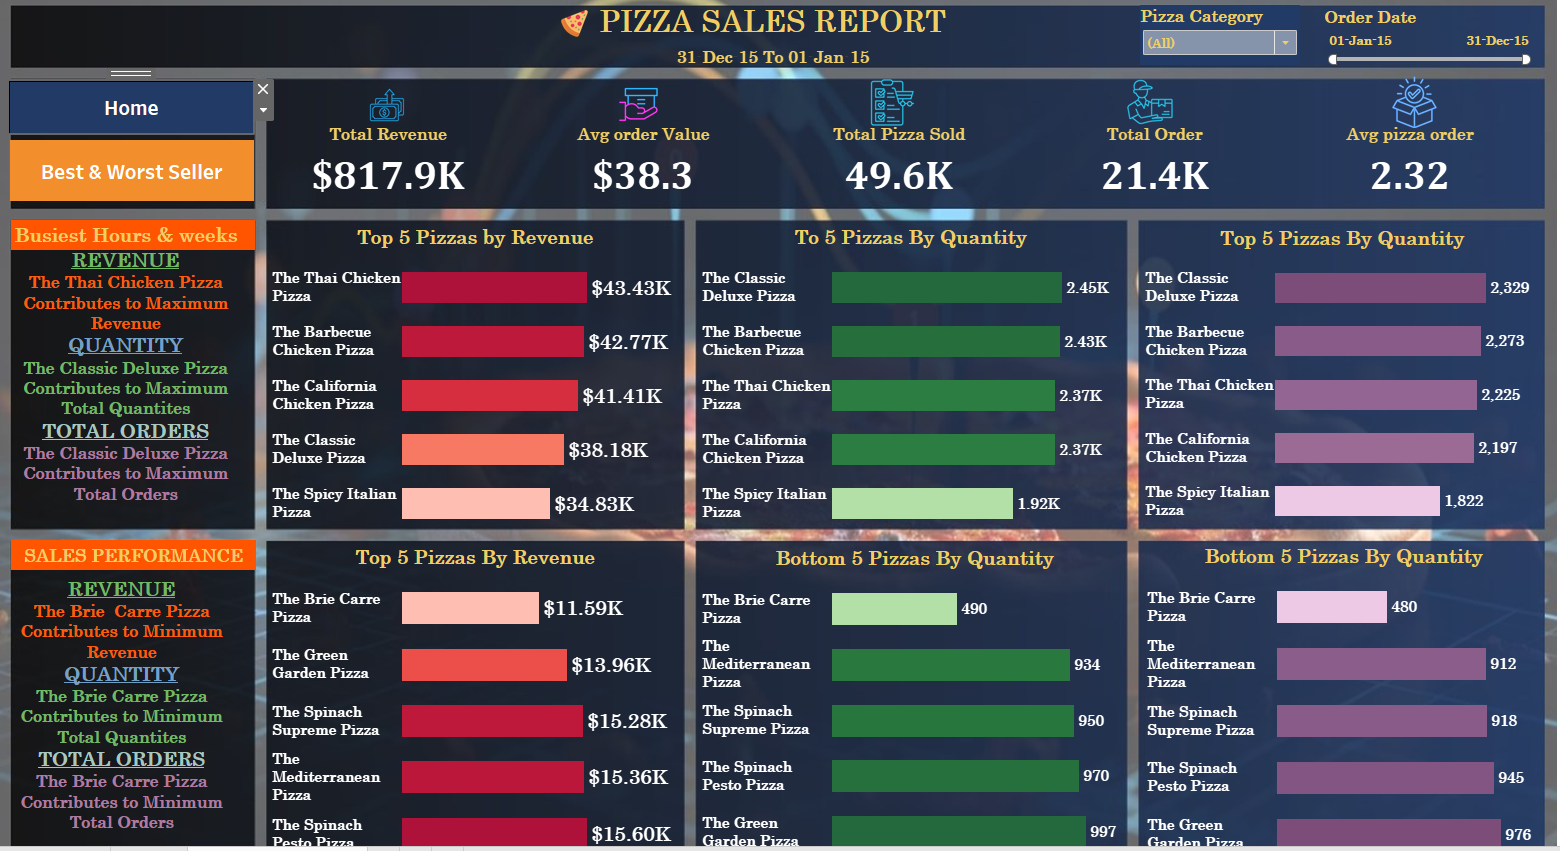

This screenshot's page, from the dashboard's own definition file:
{"tool":"tableau","page":{"name":"Best & Worst Sellers","canvas":[1600,900],"ordinal":0},"visuals":[{"type":"image","param":"C:/Users/DELL/Pictures/Internship/pizza-SQL&tableau/Pizza Tableau 2.jpg","box":[8,8,1584,884]},{"type":"filter","title":"KPI","param":"[federated.1cvowom1pjmumi1eaod2r02502ip].[none:pizza_category:nk]","box":[1161,21,160,60]},{"type":"text","box":[617,22,353,29]},{"type":"filter","title":"KPI","param":"[federated.1cvowom1pjmumi1eaod2r02502ip].[none:order_date:qk]","box":[1345,22,211,62]},{"type":"image","param":"C:/Users/DELL/Pictures/Internship/pizza-SQL&tableau/Pizza Sales Images/pizza-sli","box":[575,25,40,28]},{"type":"worksheet","title":"Date Range","mark":"Automatic","box":[620,53,347,39]},{"type":"image","param":"C:/Users/DELL/Pictures/Internship/pizza-SQL&tableau/Pizza Sales Images/order (1)","box":[1406,92,58,52]},{"type":"image","param":"C:/Users/DELL/Pictures/Internship/pizza-SQL&tableau/Pizza Sales Images/order-del","box":[884,94,58,48]},{"type":"image","param":"C:/Users/DELL/Pictures/Internship/pizza-SQL&tableau/Pizza Sales Images/delivery-","box":[1145,94,52,47]},{"type":"dashboard-object","box":[30,97,244,52]},{"type":"image","param":"C:/Users/DELL/Pictures/Internship/pizza-SQL&tableau/Pizza Sales Images/shipping-","box":[632,98,55,44]},{"type":"image","param":"C:/Users/DELL/Pictures/Internship/pizza-SQL&tableau/Pizza Sales Images/profit-gr","box":[366,101,84,39]},{"type":"worksheet","title":"KPI","mark":"Automatic","box":[281,140,1278,80]},{"type":"dashboard-object","box":[31,156,244,61]},{"type":"text","box":[32,236,244,30]},{"type":"worksheet","title":"Top 5 Pizzas by Revenue","mark":"Automatic","rows":["pizza_name"],"cols":["Calculation_926052741887680512"],"box":[287,236,418,310]},{"type":"worksheet","title":"Top 5 Pizzas by Quantiry","mark":"Automatic","rows":["pizza_name"],"cols":["Calculation_926052741888315393"],"box":[717,236,429,310]},{"type":"worksheet","title":"Top 5 Pizzas by Total Order","mark":"Automatic","rows":["pizza_name"],"cols":["Calculation_926052741888450562"],"box":[1160,237,406,307]},{"type":"text","box":[24,261,245,269]},{"type":"worksheet","title":"Bottom 5 Pizzas by Total Order","mark":"Automatic","rows":["pizza_name"],"cols":["Calculation_926052741888450562"],"box":[1162,555,405,324]},{"type":"text","box":[32,556,245,30]},{"type":"worksheet","title":"Bottom 5 Pizzas by Revenue (2)","mark":"Automatic","rows":["pizza_name"],"cols":["Calculation_926052741887680512"],"box":[287,556,418,322]},{"type":"worksheet","title":"Bottom5 Pizzas by Quantiry (2)","mark":"Automatic","rows":["pizza_name"],"cols":["Calculation_926052741888315393"],"box":[717,557,437,319]},{"type":"text","box":[20,573,245,302]}]}

Visuals, with their boxes on the page's 1600x900 design canvas (x1, y1, x2, y2). These are canvas units, not pixel positions in the 1560x851 screenshot, which may show the page scaled, cropped or inside an application window:
image: (x1=8, y1=8, x2=1592, y2=892)
"KPI" filter: (x1=1161, y1=21, x2=1321, y2=81)
text: (x1=617, y1=22, x2=970, y2=51)
"KPI" filter: (x1=1345, y1=22, x2=1556, y2=84)
image: (x1=575, y1=25, x2=615, y2=53)
"Date Range" worksheet: (x1=620, y1=53, x2=967, y2=92)
image: (x1=1406, y1=92, x2=1464, y2=144)
image: (x1=884, y1=94, x2=942, y2=142)
image: (x1=1145, y1=94, x2=1197, y2=141)
dashboard-object: (x1=30, y1=97, x2=274, y2=149)
image: (x1=632, y1=98, x2=687, y2=142)
image: (x1=366, y1=101, x2=450, y2=140)
"KPI" worksheet: (x1=281, y1=140, x2=1559, y2=220)
dashboard-object: (x1=31, y1=156, x2=275, y2=217)
text: (x1=32, y1=236, x2=276, y2=266)
"Top 5 Pizzas by Revenue" worksheet: (x1=287, y1=236, x2=705, y2=546)
"Top 5 Pizzas by Quantiry" worksheet: (x1=717, y1=236, x2=1146, y2=546)
"Top 5 Pizzas by Total Order" worksheet: (x1=1160, y1=237, x2=1566, y2=544)
text: (x1=24, y1=261, x2=269, y2=530)
"Bottom 5 Pizzas by Total Order" worksheet: (x1=1162, y1=555, x2=1567, y2=879)
text: (x1=32, y1=556, x2=277, y2=586)
"Bottom 5 Pizzas by Revenue (2)" worksheet: (x1=287, y1=556, x2=705, y2=878)
"Bottom5 Pizzas by Quantiry (2)" worksheet: (x1=717, y1=557, x2=1154, y2=876)
text: (x1=20, y1=573, x2=265, y2=875)
